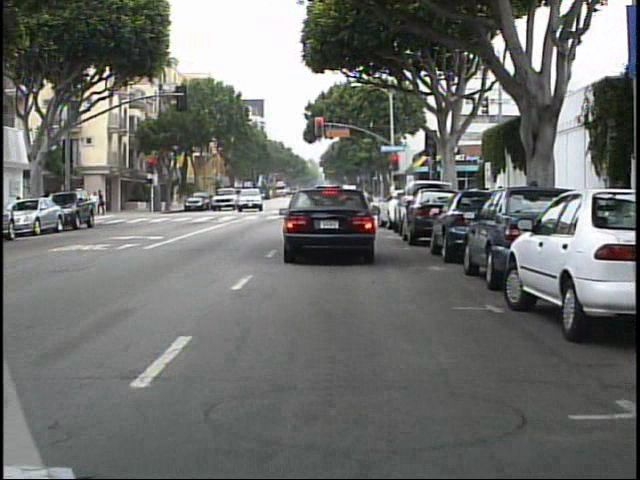person: (100, 188, 114, 218), (89, 189, 102, 217)
